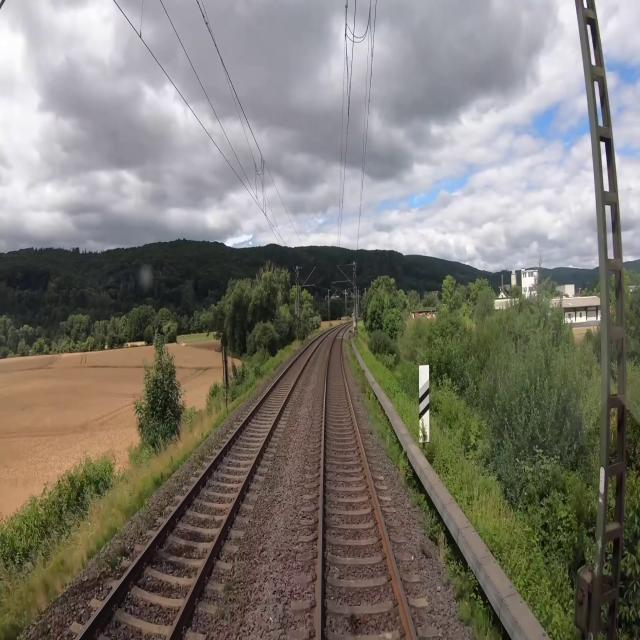Plant: (344, 341, 447, 543), (442, 545, 504, 639)
